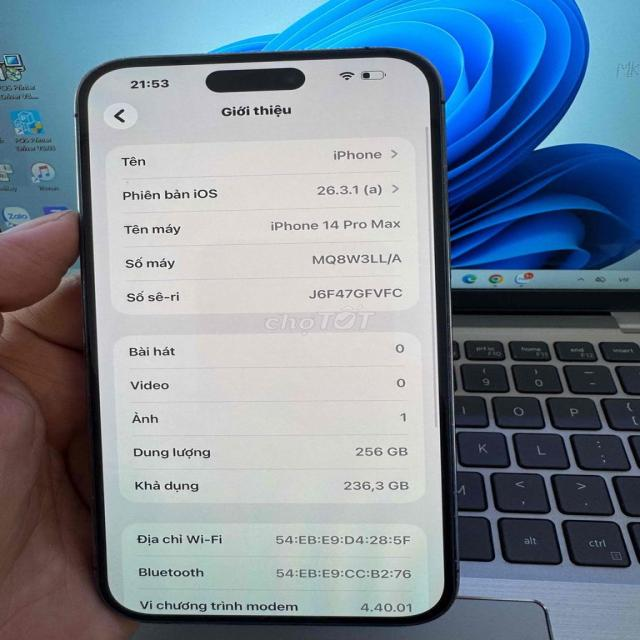gen_14: (47, 42, 483, 629)
